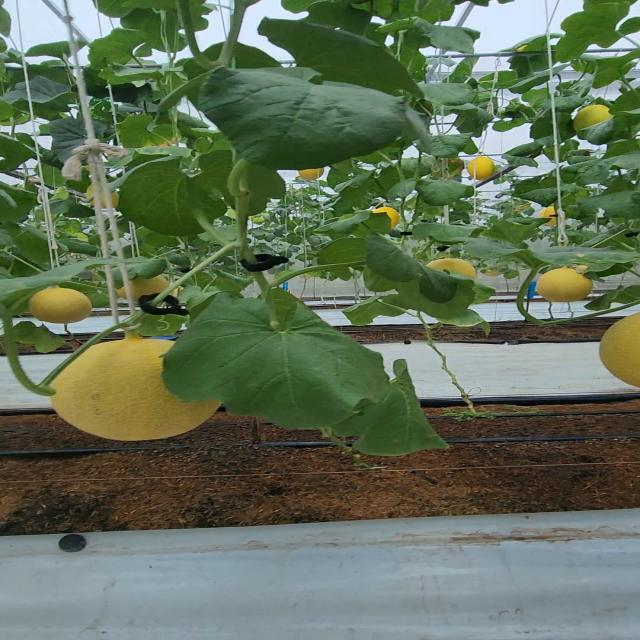Melon: (56, 336, 227, 446), (24, 286, 97, 326), (527, 266, 597, 306)
